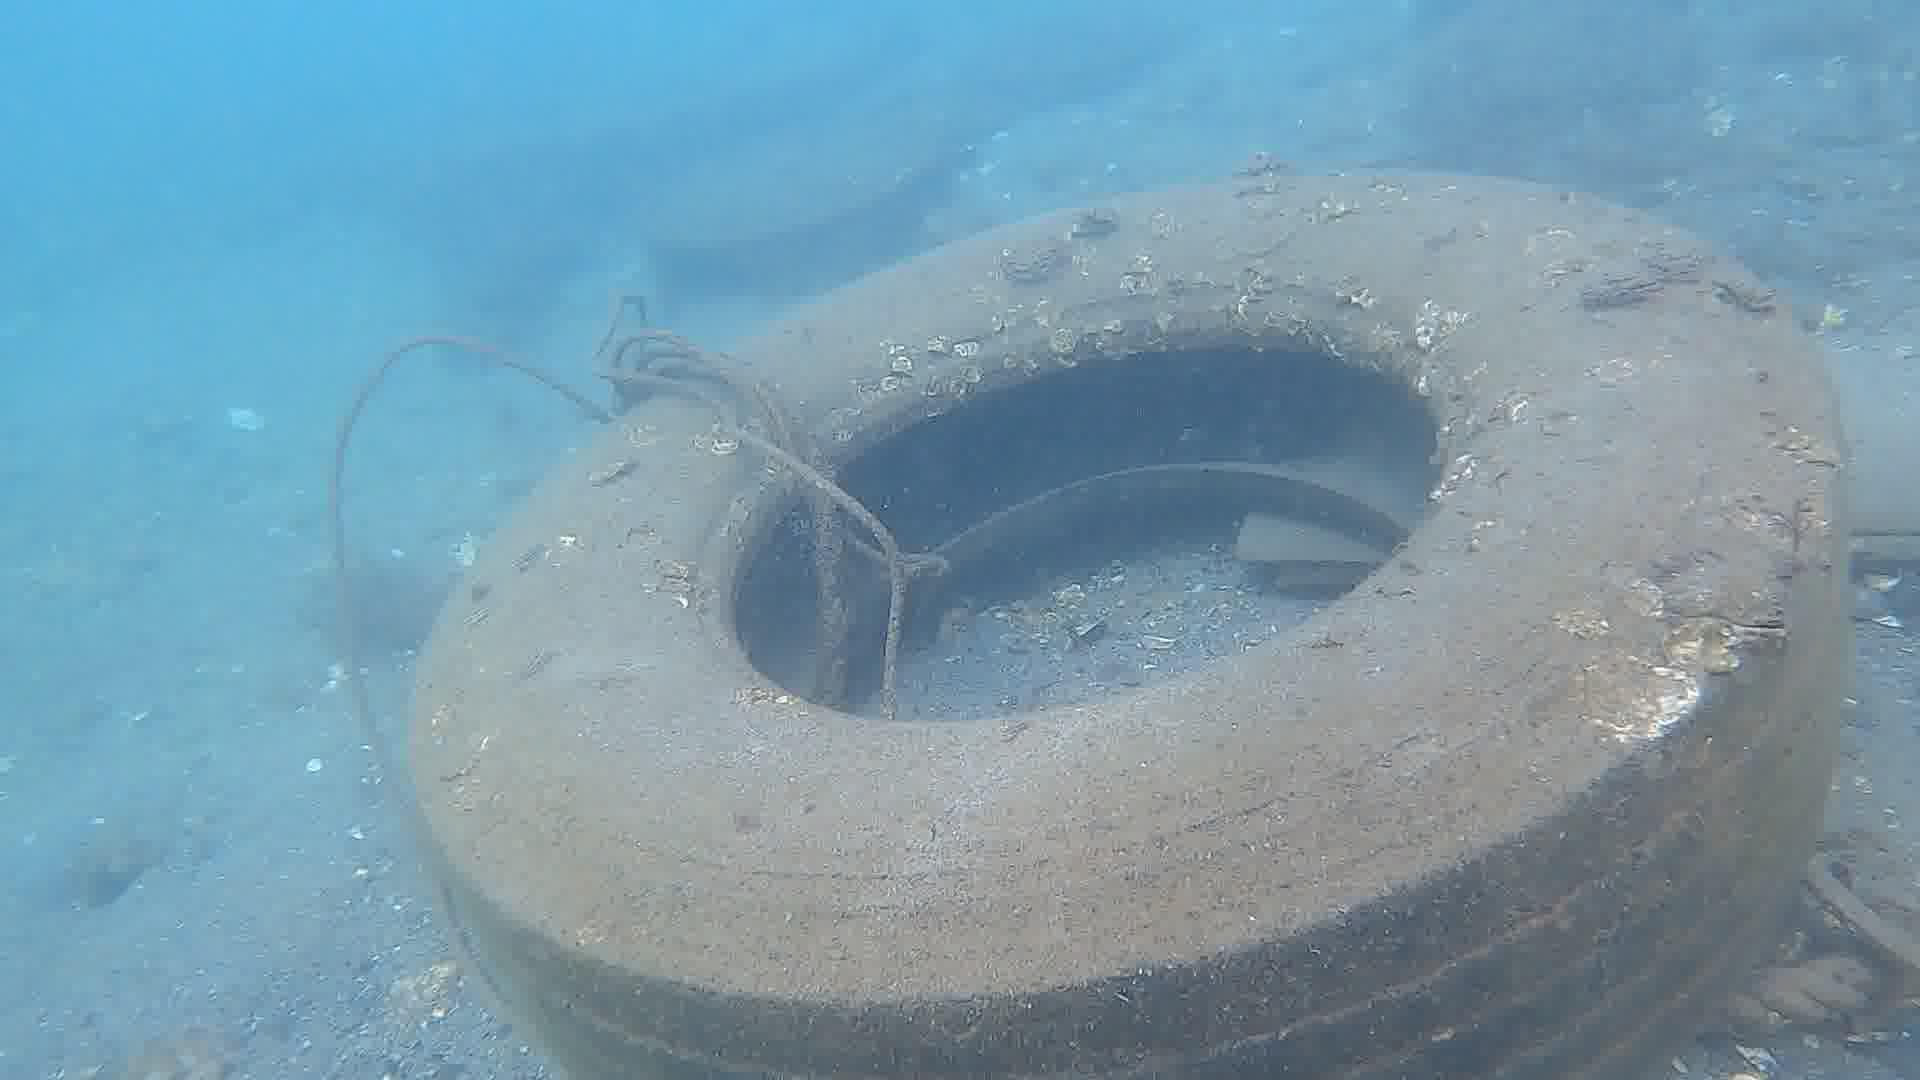bundle of ropes: (327, 290, 945, 746)
rope: (1696, 952, 1887, 1040)
tire: (404, 174, 1851, 1080)
